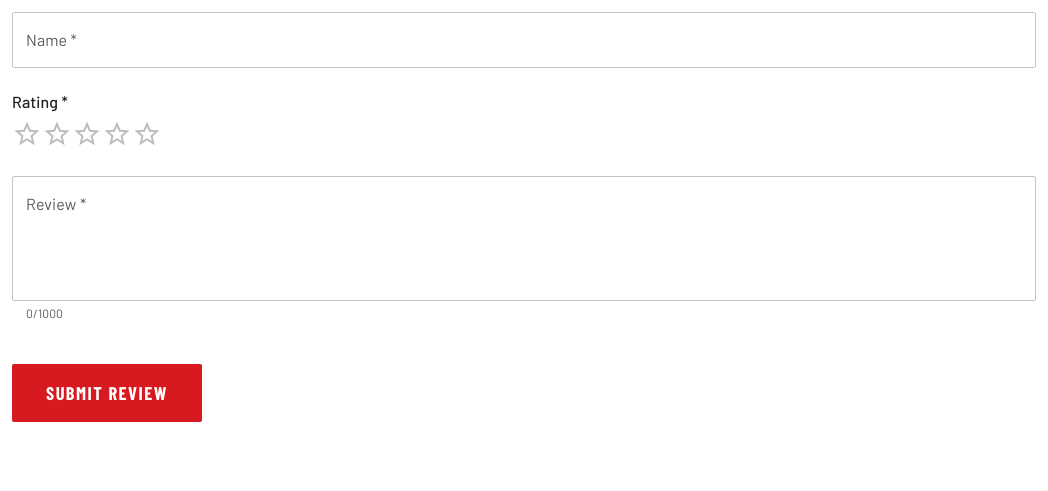
ReviewForm › submits a valid review and shows the approval message
Type "Jane Doe" into the field labelled "Name *" at (524, 40), box [12, 12, 1036, 68]
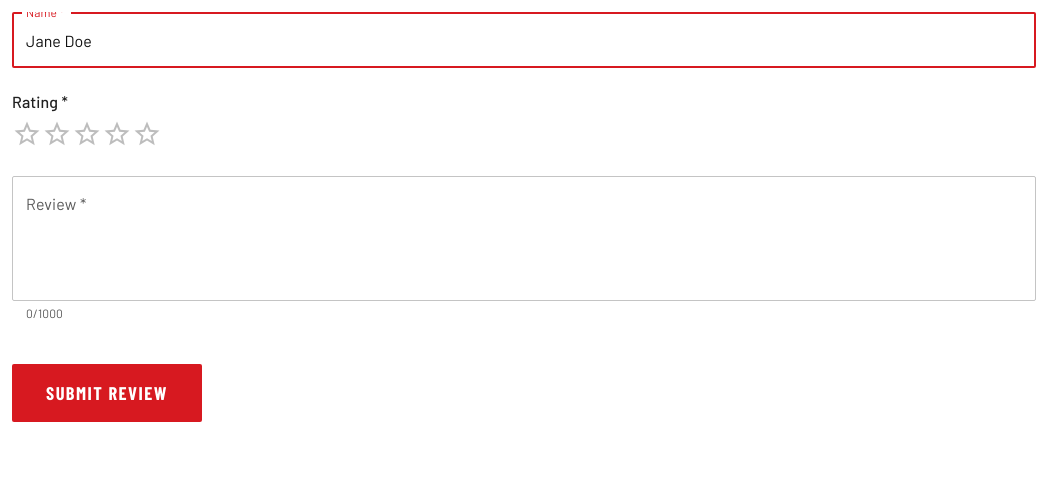
Click the radio button named "5 Stars" at (147, 134), box [132, 119, 162, 149]
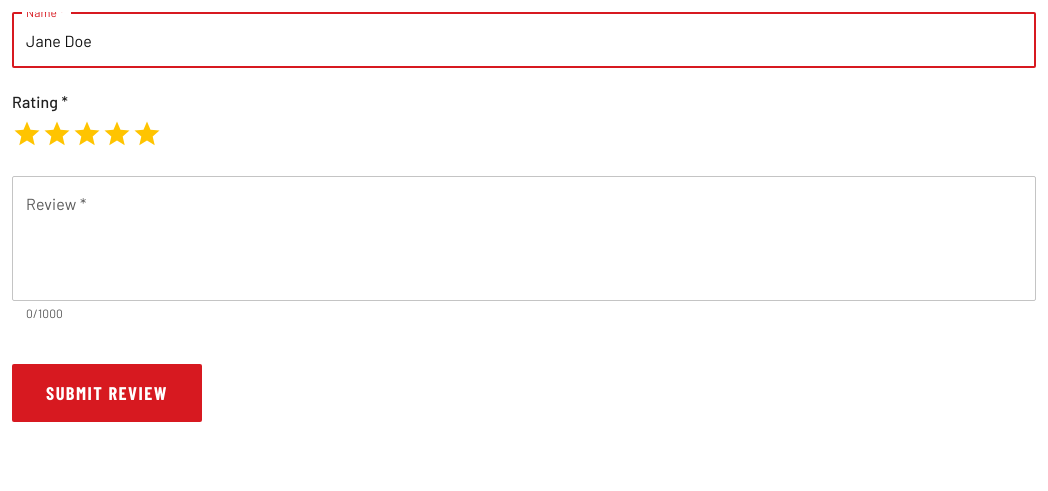
Type "Great trim work throughout the house." into the text box labelled "Review *" at (524, 239), box [26, 193, 1022, 285]
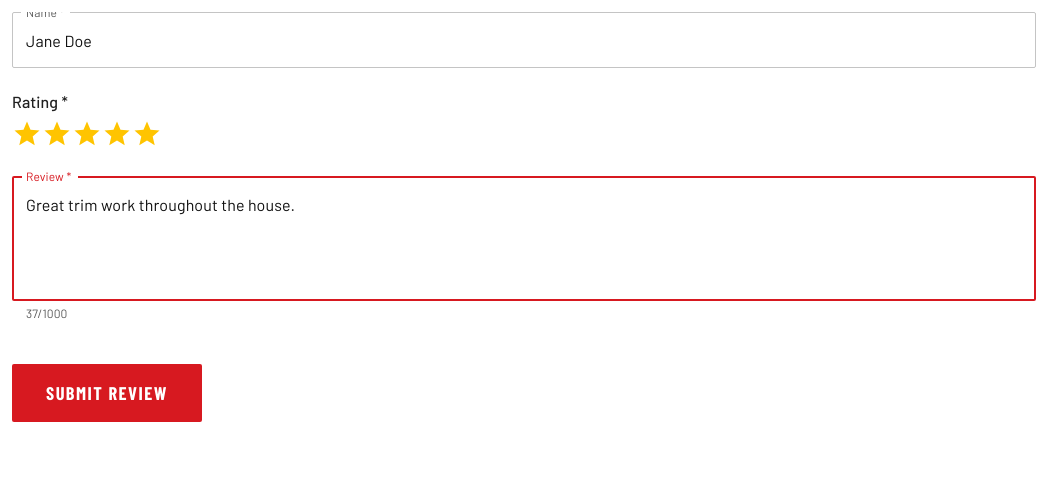
Click the button "Submit Review" at (107, 393), box [12, 364, 202, 422]
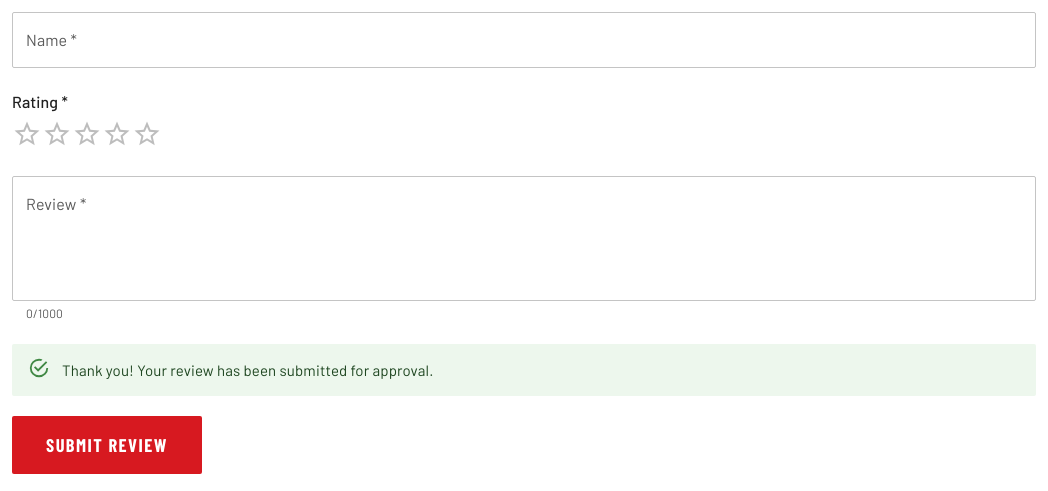
Expected: the text "Thank you! Your review has been submitted for approval." is shown, [62, 361, 434, 379]
